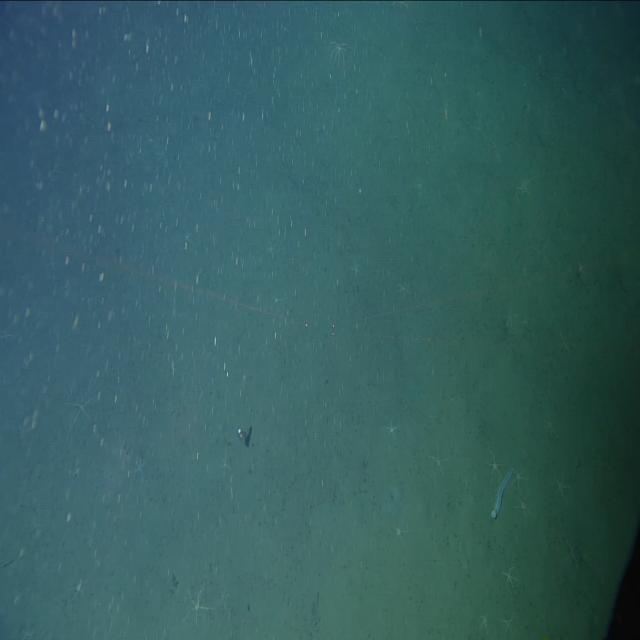Brittle Star: (64, 376, 100, 434), (179, 577, 216, 632)
